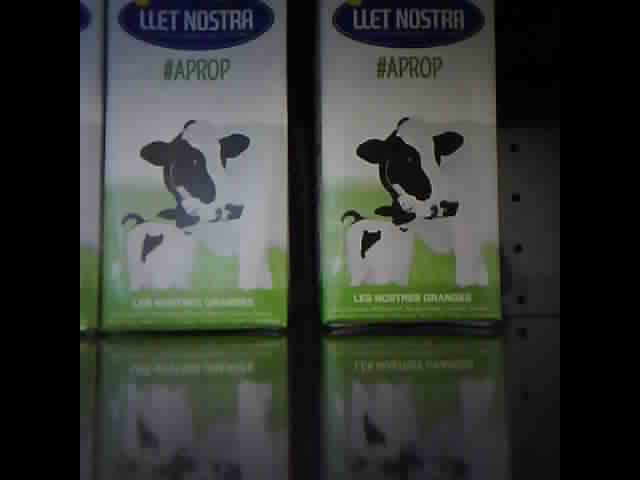leche: (101, 2, 287, 337), (316, 2, 498, 328), (81, 2, 106, 330)
